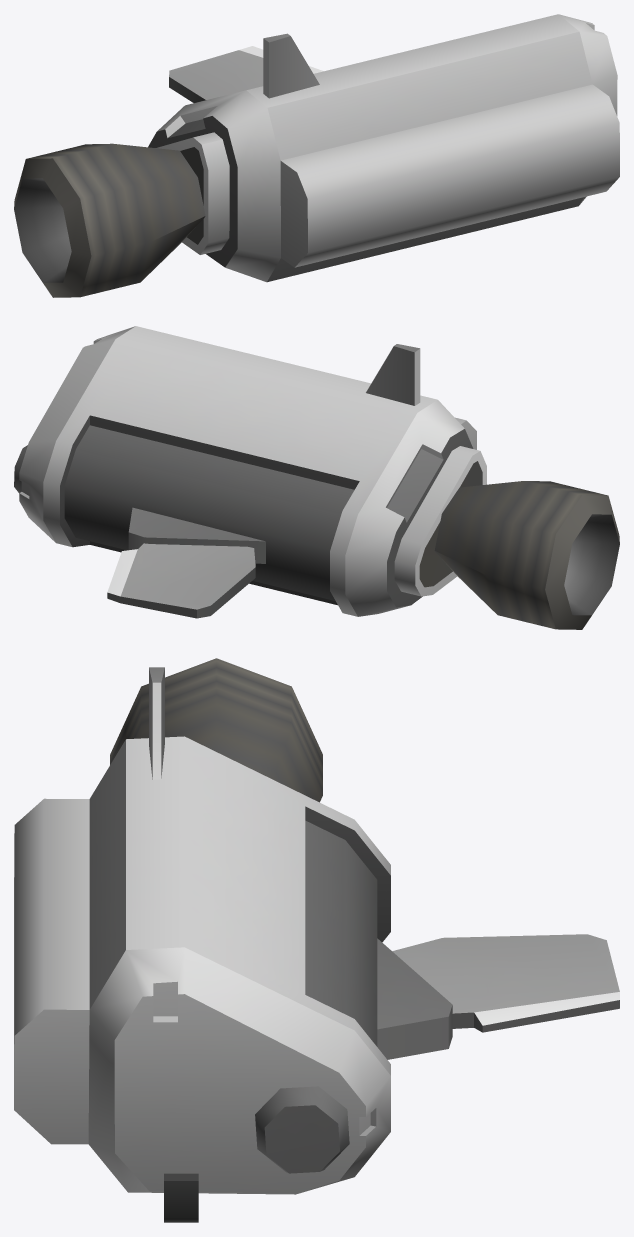
The model's file is Jet3L.fbx.
3 renders of one model, top to bottom at view 1: azimuth 30°, elevation 25°; view 2: azimuth 150°, elevation 25°; view 3: azimuth 270°, elevation 25°, orthographic. The views are drawn at different scales.
Parts seen in each view (by area): view 1: Jet3L.006, Jet3L.0, Jet3L.001, Jet3L.008, Jet3L.007, Jet3L.002, Jet3L.003, Jet3L.005; view 2: Jet3L.0, Jet3L.001, Jet3L.002, Jet3L.008, Jet3L.007, Jet3L.005, Jet3L.003; view 3: Jet3L.0, Jet3L.005, Jet3L.006, Jet3L.002, Jet3L.001, Jet3L.004, Jet3L.003.
Boxes of the visible parts, left/top/right/bottom form: Jet3L.006: left=280, top=84, right=619, bottom=267; Jet3L.0: left=246, top=14, right=592, bottom=282; Jet3L.001: left=14, top=143, right=205, bottom=297; Jet3L.008: left=148, top=90, right=280, bottom=282; Jet3L.007: left=156, top=132, right=229, bottom=254; Jet3L.002: left=169, top=46, right=323, bottom=102; Jet3L.003: left=263, top=33, right=319, bottom=98; Jet3L.005: left=559, top=14, right=617, bottom=204; Jet3L.0: left=43, top=326, right=437, bottom=616; Jet3L.001: left=434, top=481, right=619, bottom=629; Jet3L.002: left=107, top=507, right=265, bottom=618; Jet3L.008: left=345, top=400, right=473, bottom=616; Jet3L.007: left=394, top=446, right=486, bottom=596; Jet3L.005: left=19, top=326, right=135, bottom=542; Jet3L.003: left=366, top=344, right=420, bottom=405; Jet3L.0: left=89, top=736, right=390, bottom=1126; Jet3L.005: left=88, top=947, right=390, bottom=1194; Jet3L.006: left=14, top=798, right=89, bottom=1144; Jet3L.002: left=377, top=934, right=619, bottom=1059; Jet3L.001: left=110, top=658, right=322, bottom=802; Jet3L.004: left=164, top=1086, right=349, bottom=1222; Jet3L.003: left=149, top=667, right=164, bottom=779.
Size of the model in its own units: 2.98 by 1.21 by 2.04.
